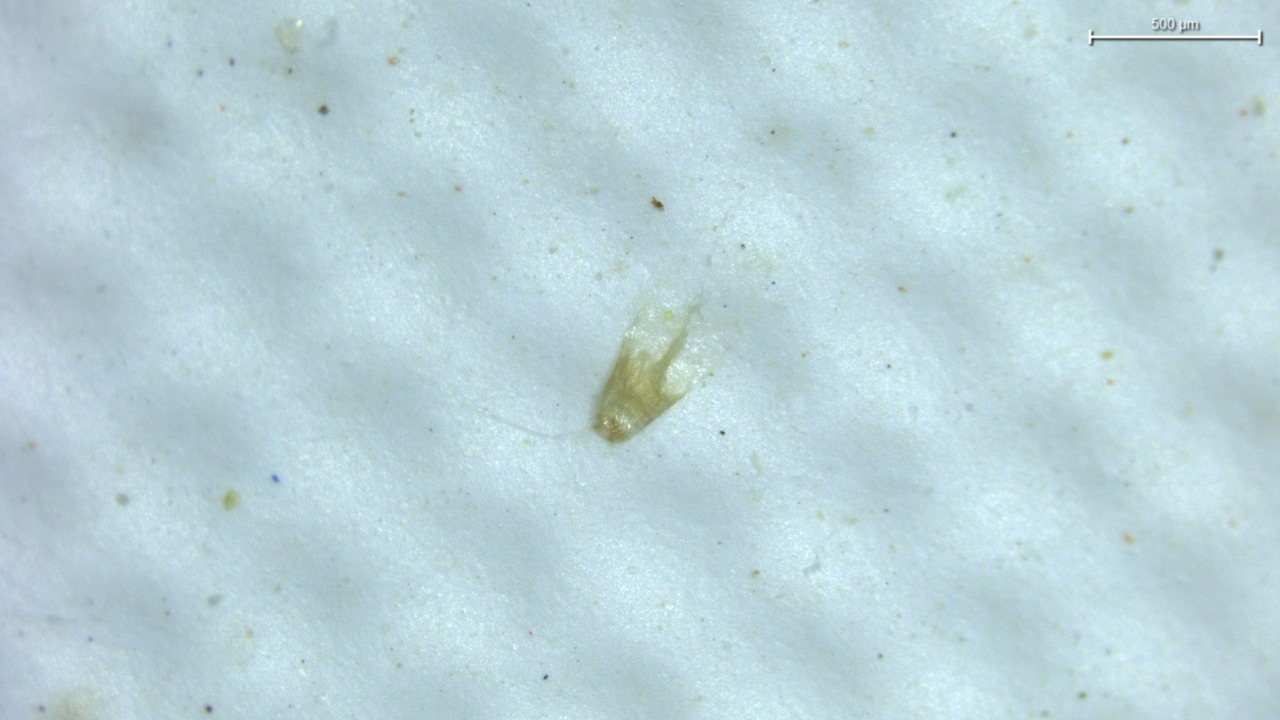microplastic_fragment: (594, 301, 701, 442)
